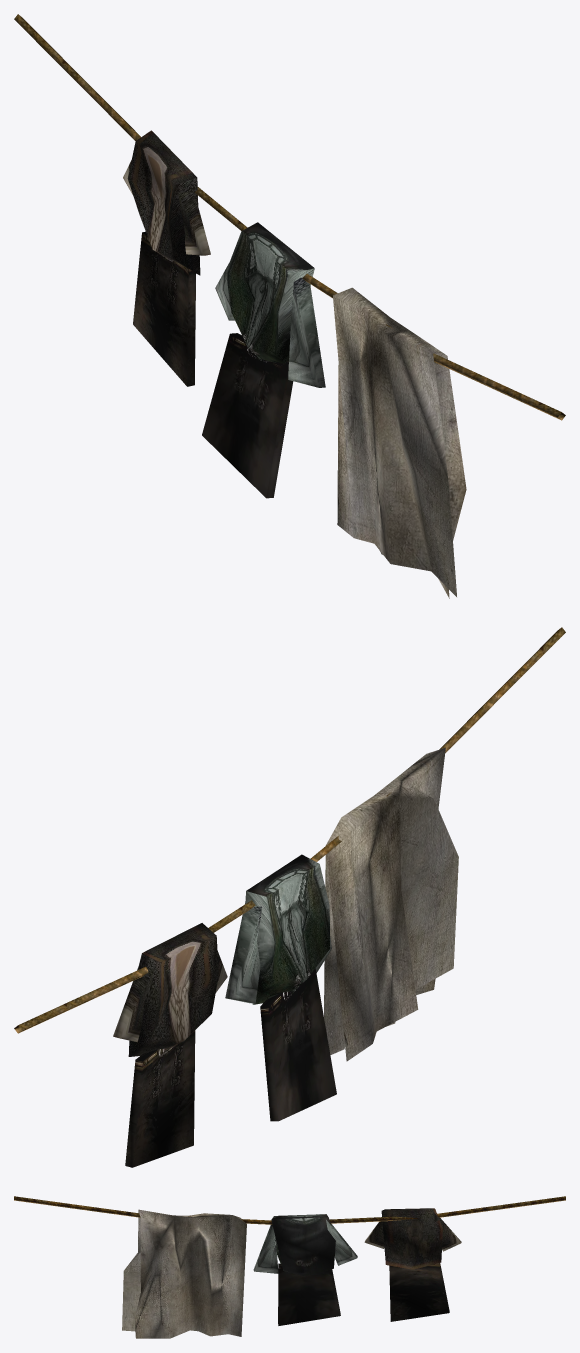
Rendered from KM_VOB_CLOTHES_03.glb.
3 views of the same model, one above another, from view 1: azimuth 30°, elevation 25°; view 2: azimuth 150°, elevation 25°; view 3: azimuth 270°, elevation 25° (orthographic). The views are drawn at different scales.
Visible parts, largest first — view 1: Mesh; view 2: Mesh; view 3: Mesh.
Part boxes in pixels (box(x1,y1,x2,y2)): Mesh: box(14, 14, 565, 598); Mesh: box(14, 627, 565, 1167); Mesh: box(14, 1196, 565, 1338).
Size of the model in its own units: 0.2837 by 1.1 by 3.94.
4 materials, 4 textured.
